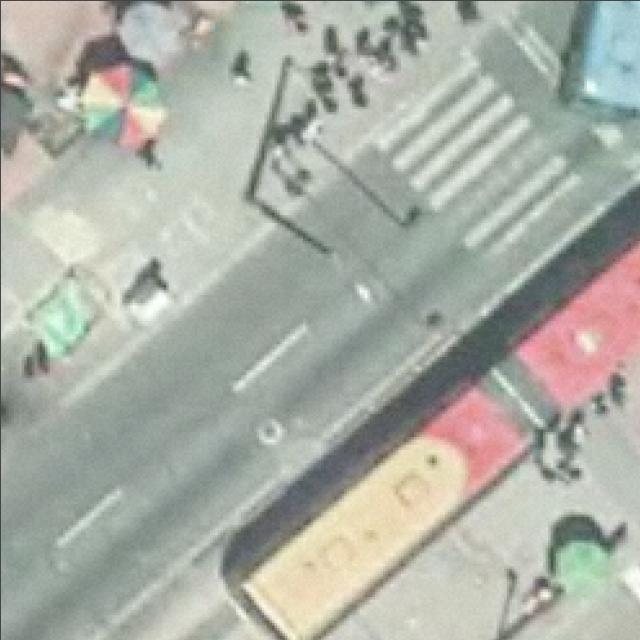vendedor_ambulante: (79, 61, 170, 156), (113, 0, 186, 64), (550, 534, 614, 600)
